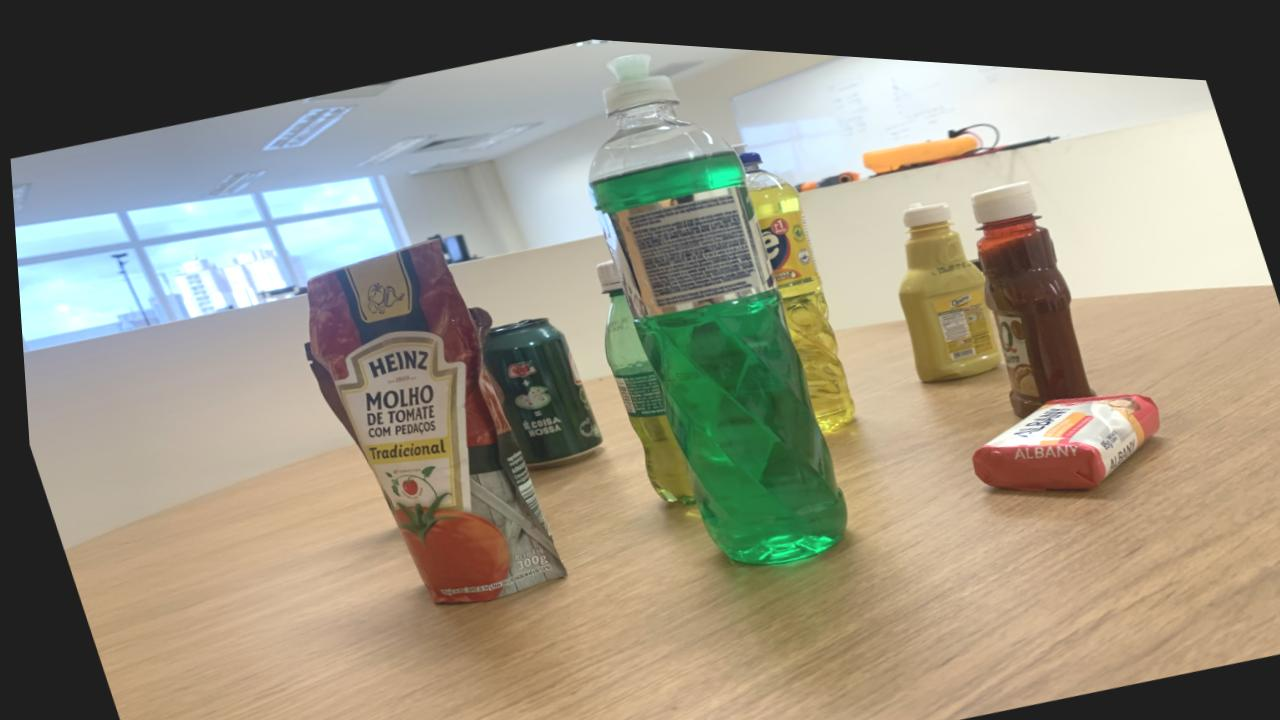Detergent-Cleanup_Items: (586, 45, 841, 554), (734, 134, 850, 420)
Guarana-Drinks: (593, 252, 690, 496)
Guarana_Can-Drinks: (479, 311, 597, 462)
Ketchup-Pantry_Items: (969, 167, 1089, 403)
Mustard-Pantry_Items: (895, 190, 997, 370)
Soap-Cleanup_Items: (967, 378, 1155, 476)
Tomato_Sauce-Pantry_Items: (302, 236, 560, 598)
